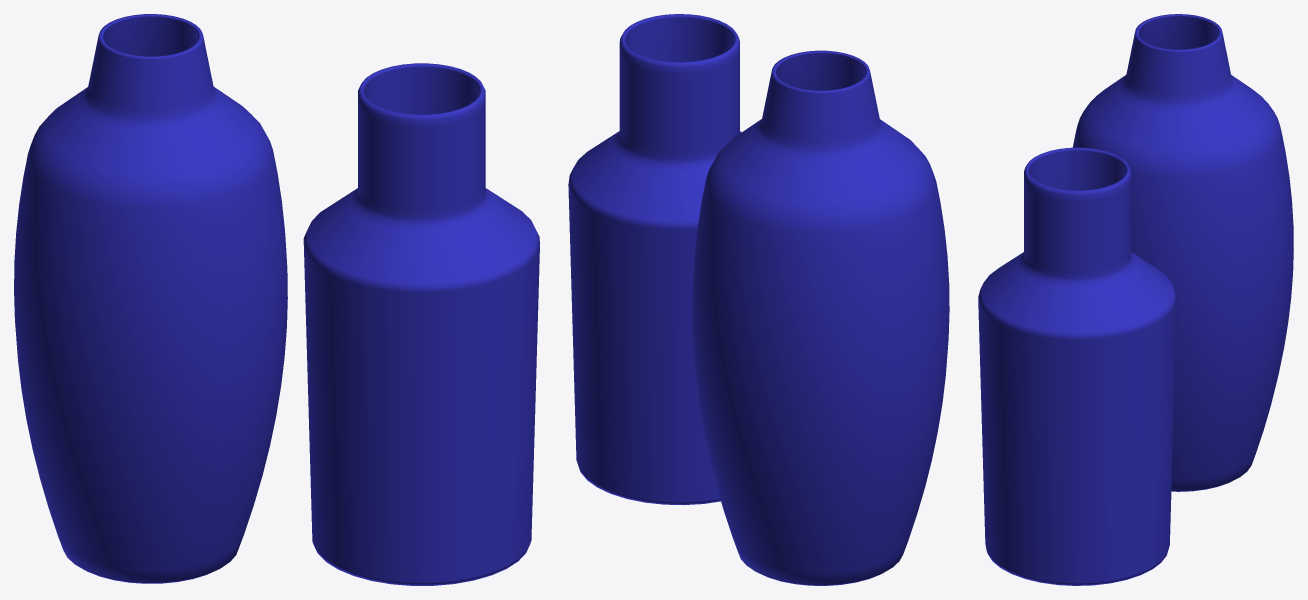
Rendered from Jars.gltf.
3 renders of one model, left to right at view 1: azimuth 30°, elevation 25°; view 2: azimuth 150°, elevation 25°; view 3: azimuth 270°, elevation 25°, orthographic. The views are drawn at different scales.
Parts seen in each view (by area): view 1: decor_002; view 2: decor_002; view 3: decor_002.
Boxes of the visible parts, x1,y1,x2,y2 form: decor_002: (14,14,539,585); decor_002: (568,14,949,585); decor_002: (978,14,1293,585).
Bounding box in the file's own units: 0.1474 × 0.1671 × 0.1112.
